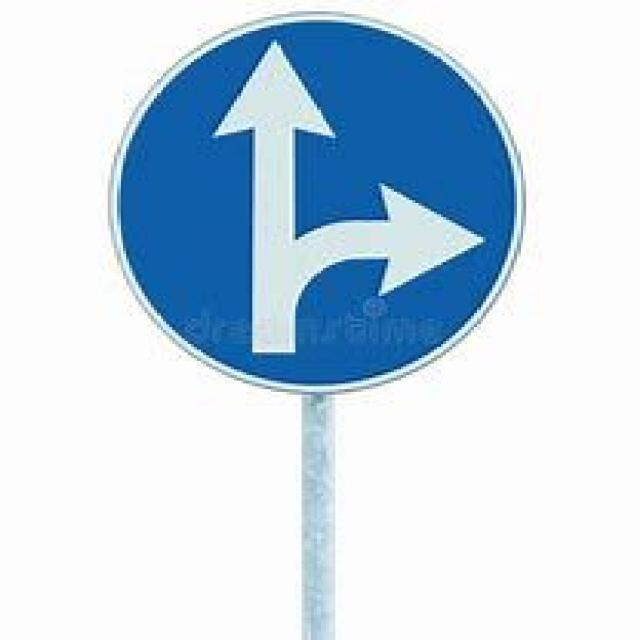COMPULSARY_AHEAD_OR_TURN_RIGHT: (105, 8, 523, 392)
